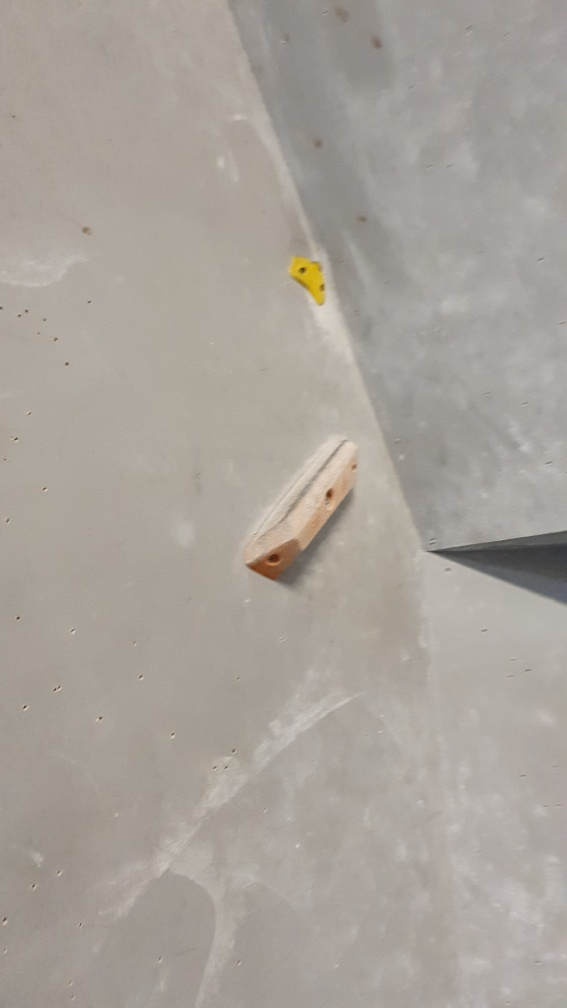Pinch: (240, 436, 364, 585)
